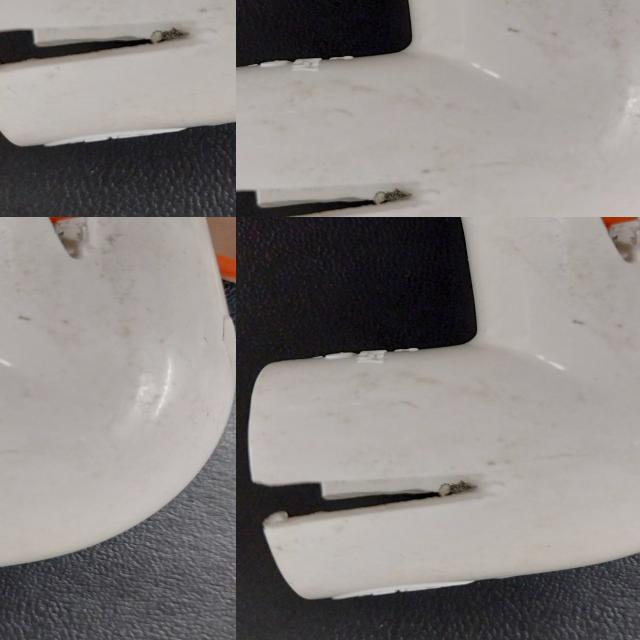Defective: (247, 481, 476, 534), (600, 217, 640, 265)
L Joint: (247, 217, 640, 604)
